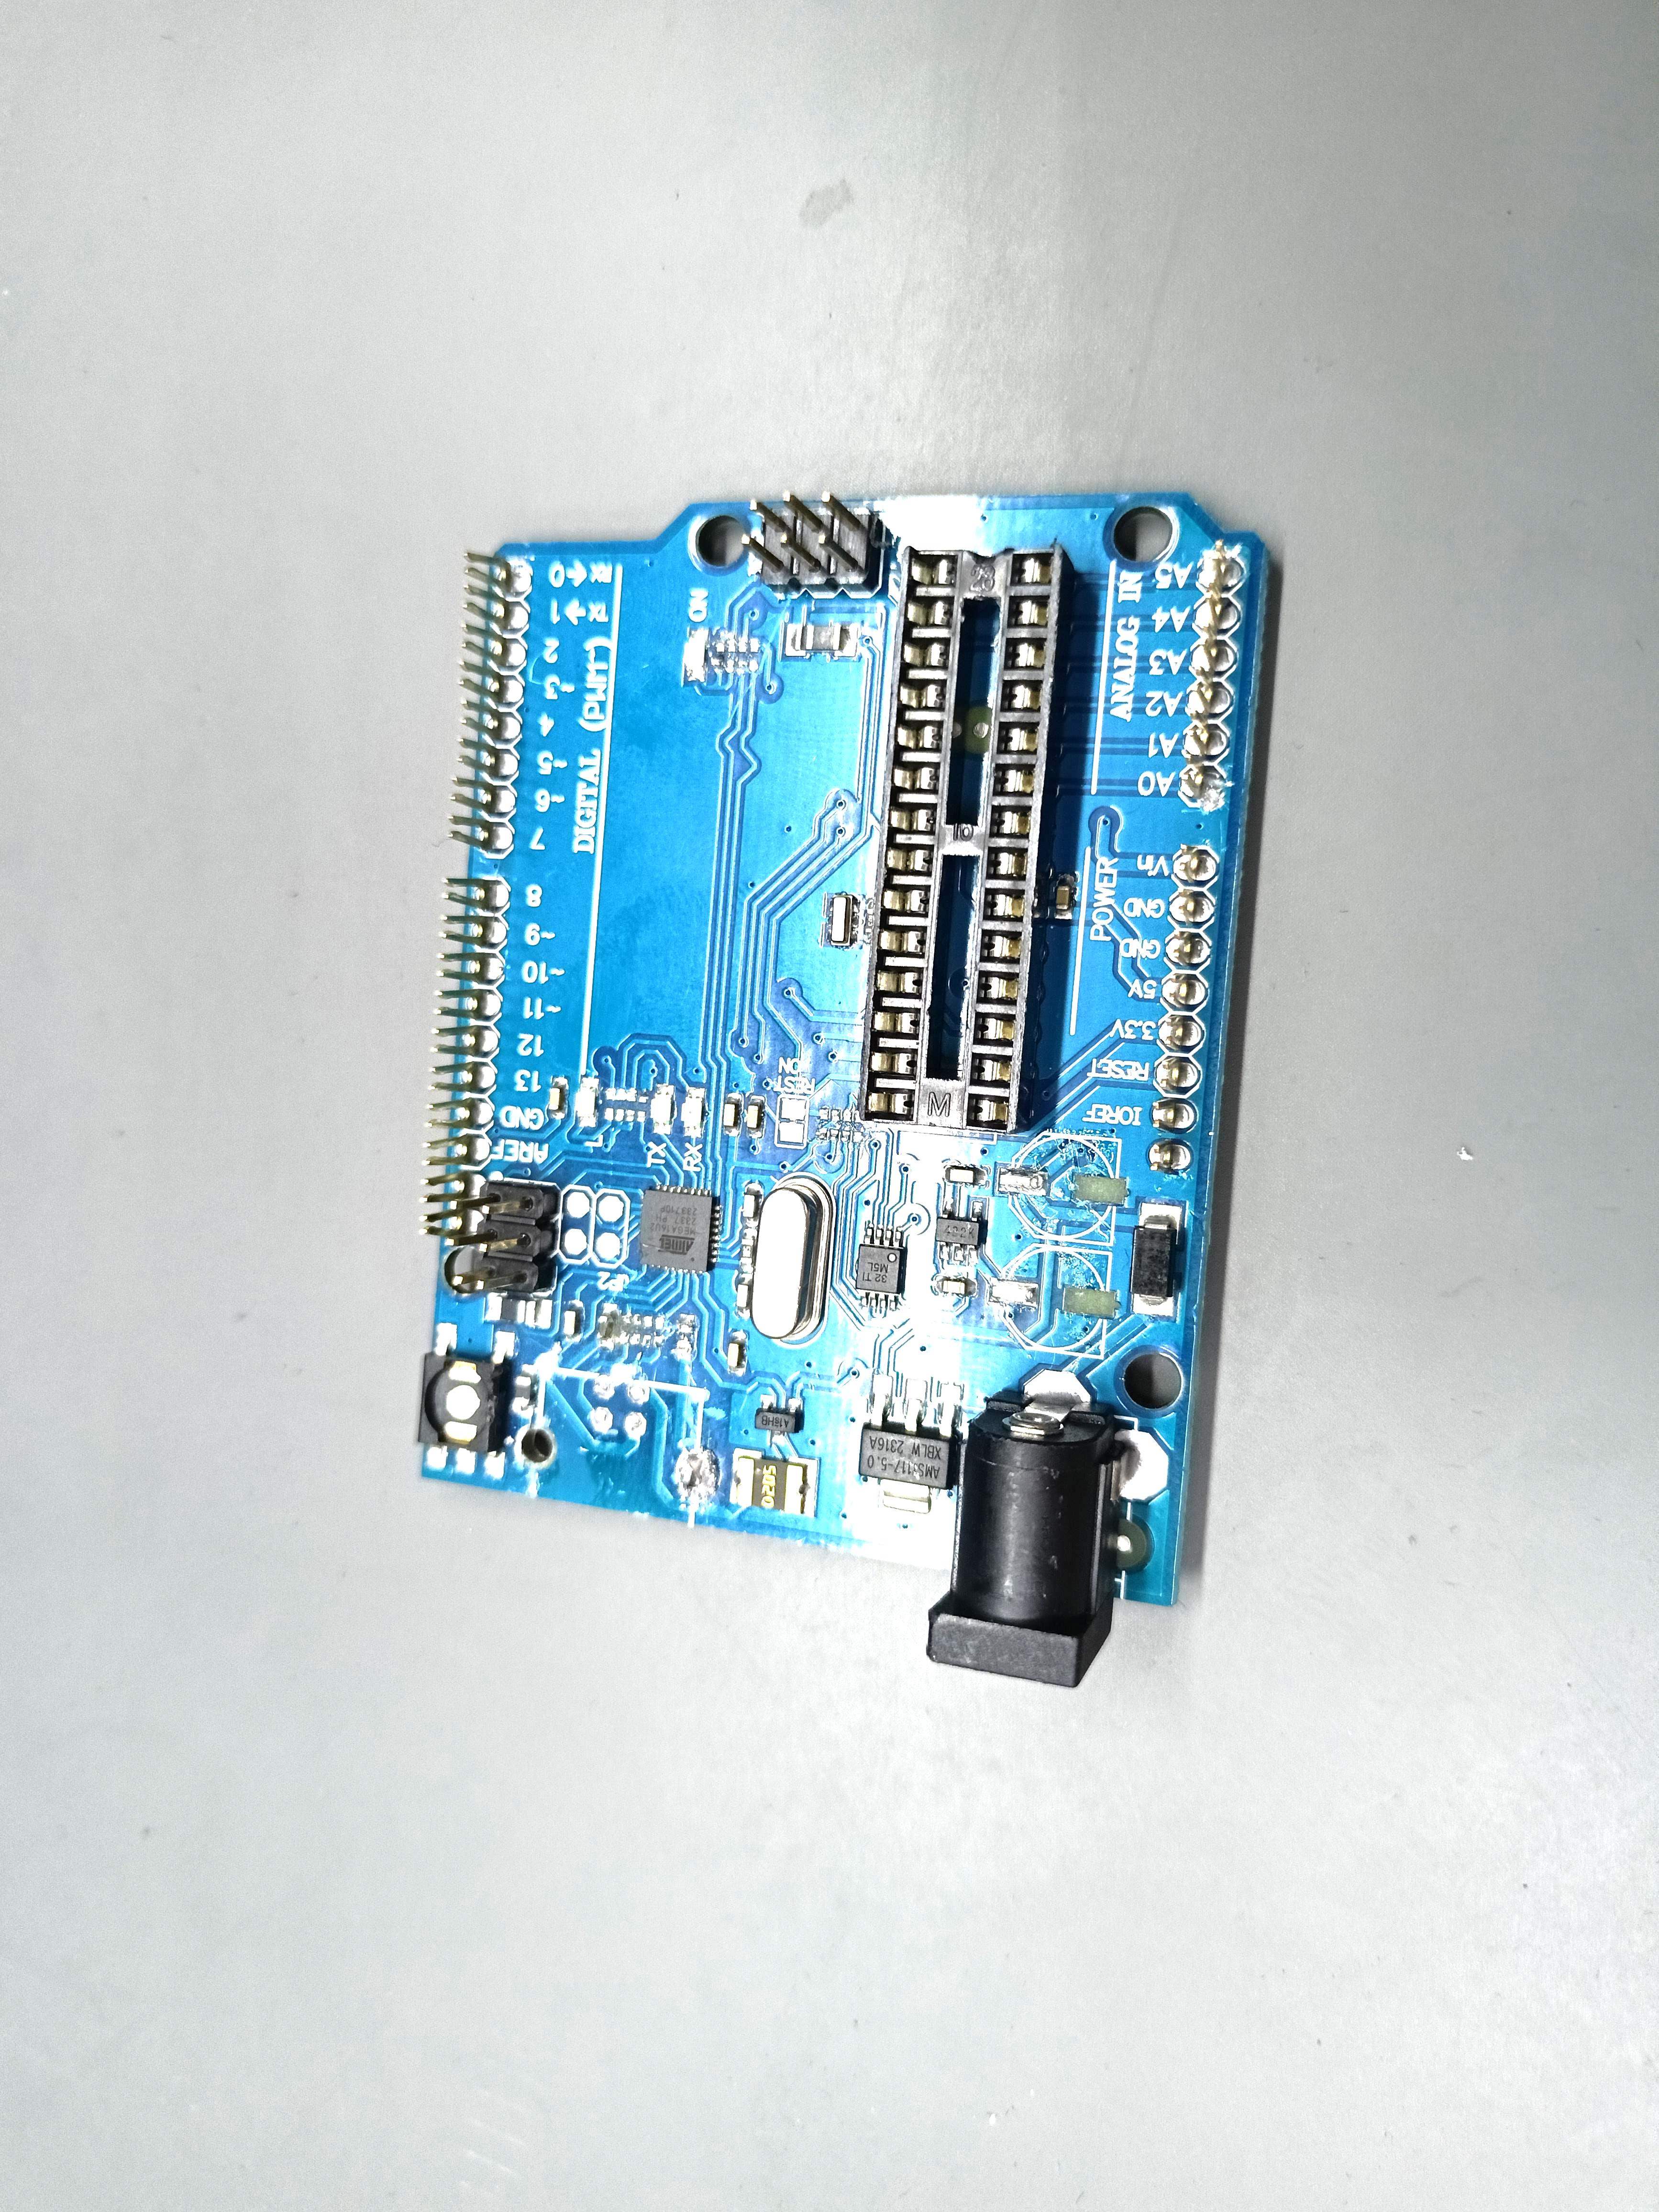Arduino board: (415, 489, 1272, 1689)
